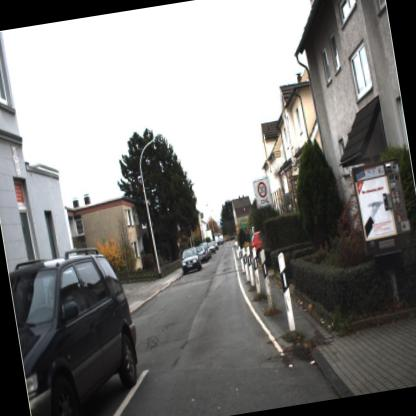prohibitory: (254, 181, 271, 200)
